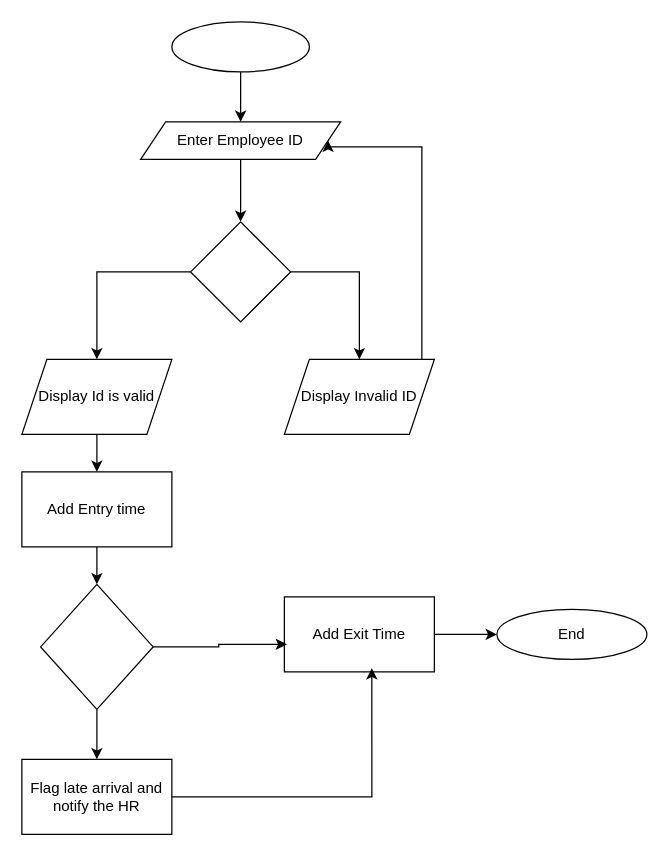
Image size: 669x856. Some labels were removed from this diagram. The centre of each missing label's shape, as x and y in pixels:
employee id valid ?: the point at 240,271
entry late than allowed entrytime: the point at 96,646
Start: the point at 240,46
